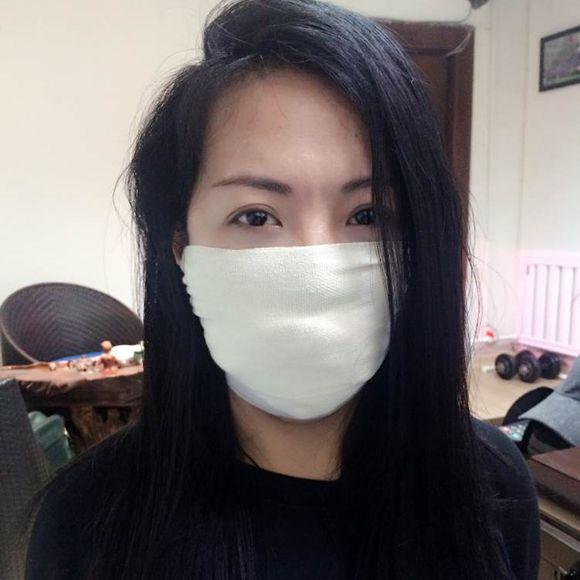OK: (189, 137, 407, 425)
